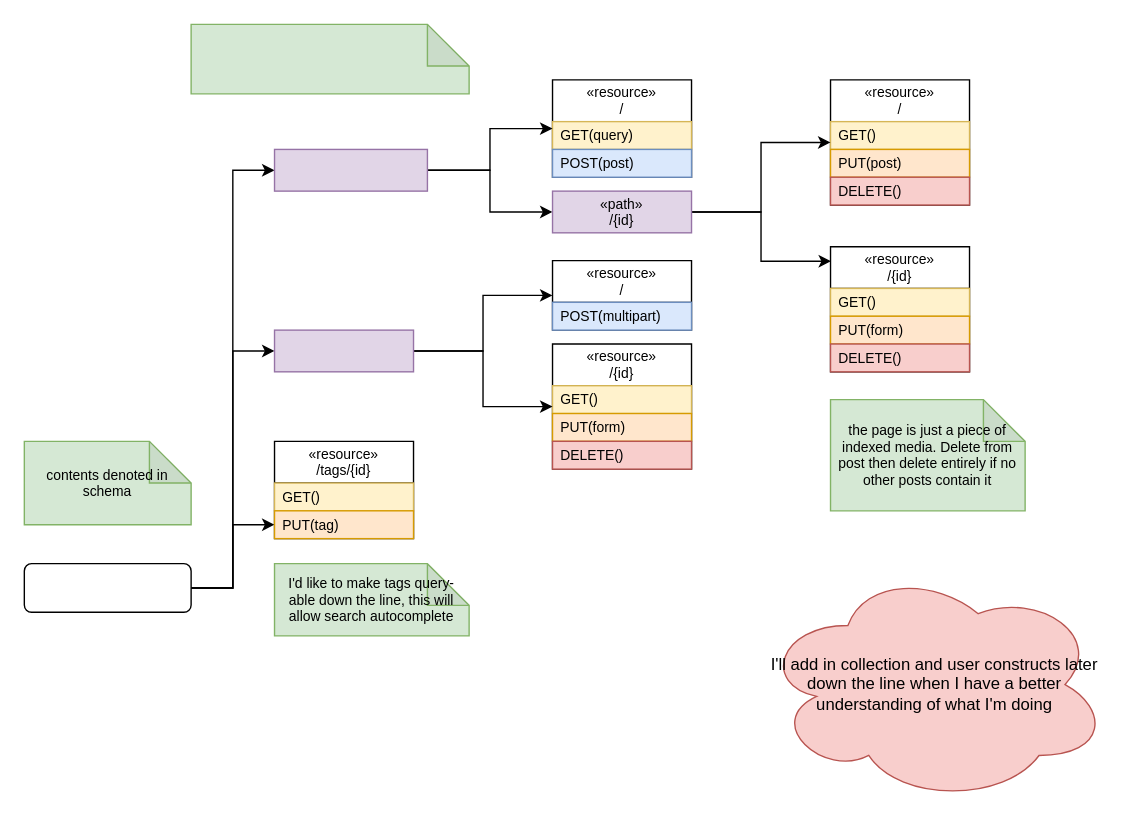
The diagram is 1133 pixels wide and 827 high, and some of its shapes have lost their labels. The centre of each missing label's shape, as x and y in pixels:
"homebooru" goes at [107,587].
"query: ?q={search}&page={i}&limit={i}" goes at [329,58].
"«path» /media" goes at [343,350].
"«path» /posts" goes at [350,169].
